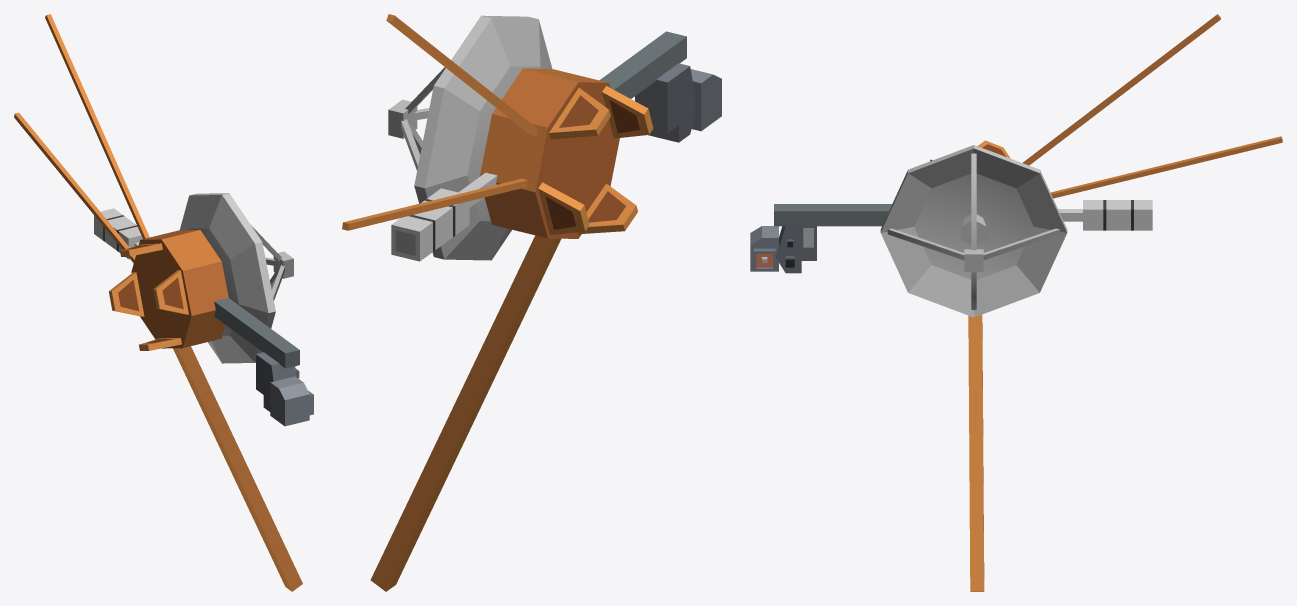
File: SM_Veh_Satellite_07.fbx
3 views of the same model, side by side, from view 1: azimuth 30°, elevation 25°; view 2: azimuth 150°, elevation 25°; view 3: azimuth 270°, elevation 25° (orthographic). The views are drawn at different scales.
Parts seen in each view (by area): view 1: SM_Veh_Satellite_07; view 2: SM_Veh_Satellite_07; view 3: SM_Veh_Satellite_07.
Part boxes in pixels (<box>): SM_Veh_Satellite_07: <box>14,14,313,591</box>; SM_Veh_Satellite_07: <box>342,14,721,591</box>; SM_Veh_Satellite_07: <box>750,14,1282,591</box>.
Bounding box in the file's own units: 0.9388 × 2.78 × 2.59.
